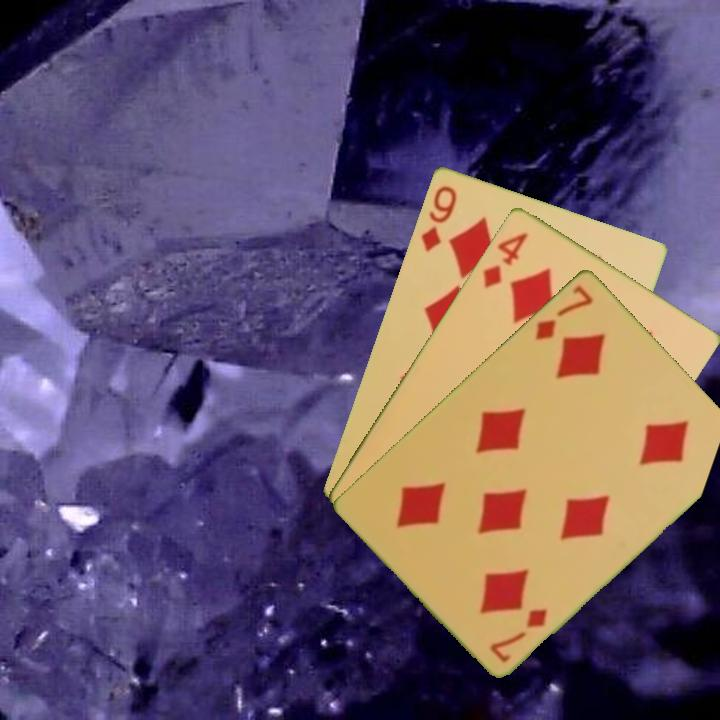4d: (479, 228, 531, 291)
7d: (531, 281, 596, 343), (486, 604, 551, 665)
9d: (417, 181, 460, 254)
